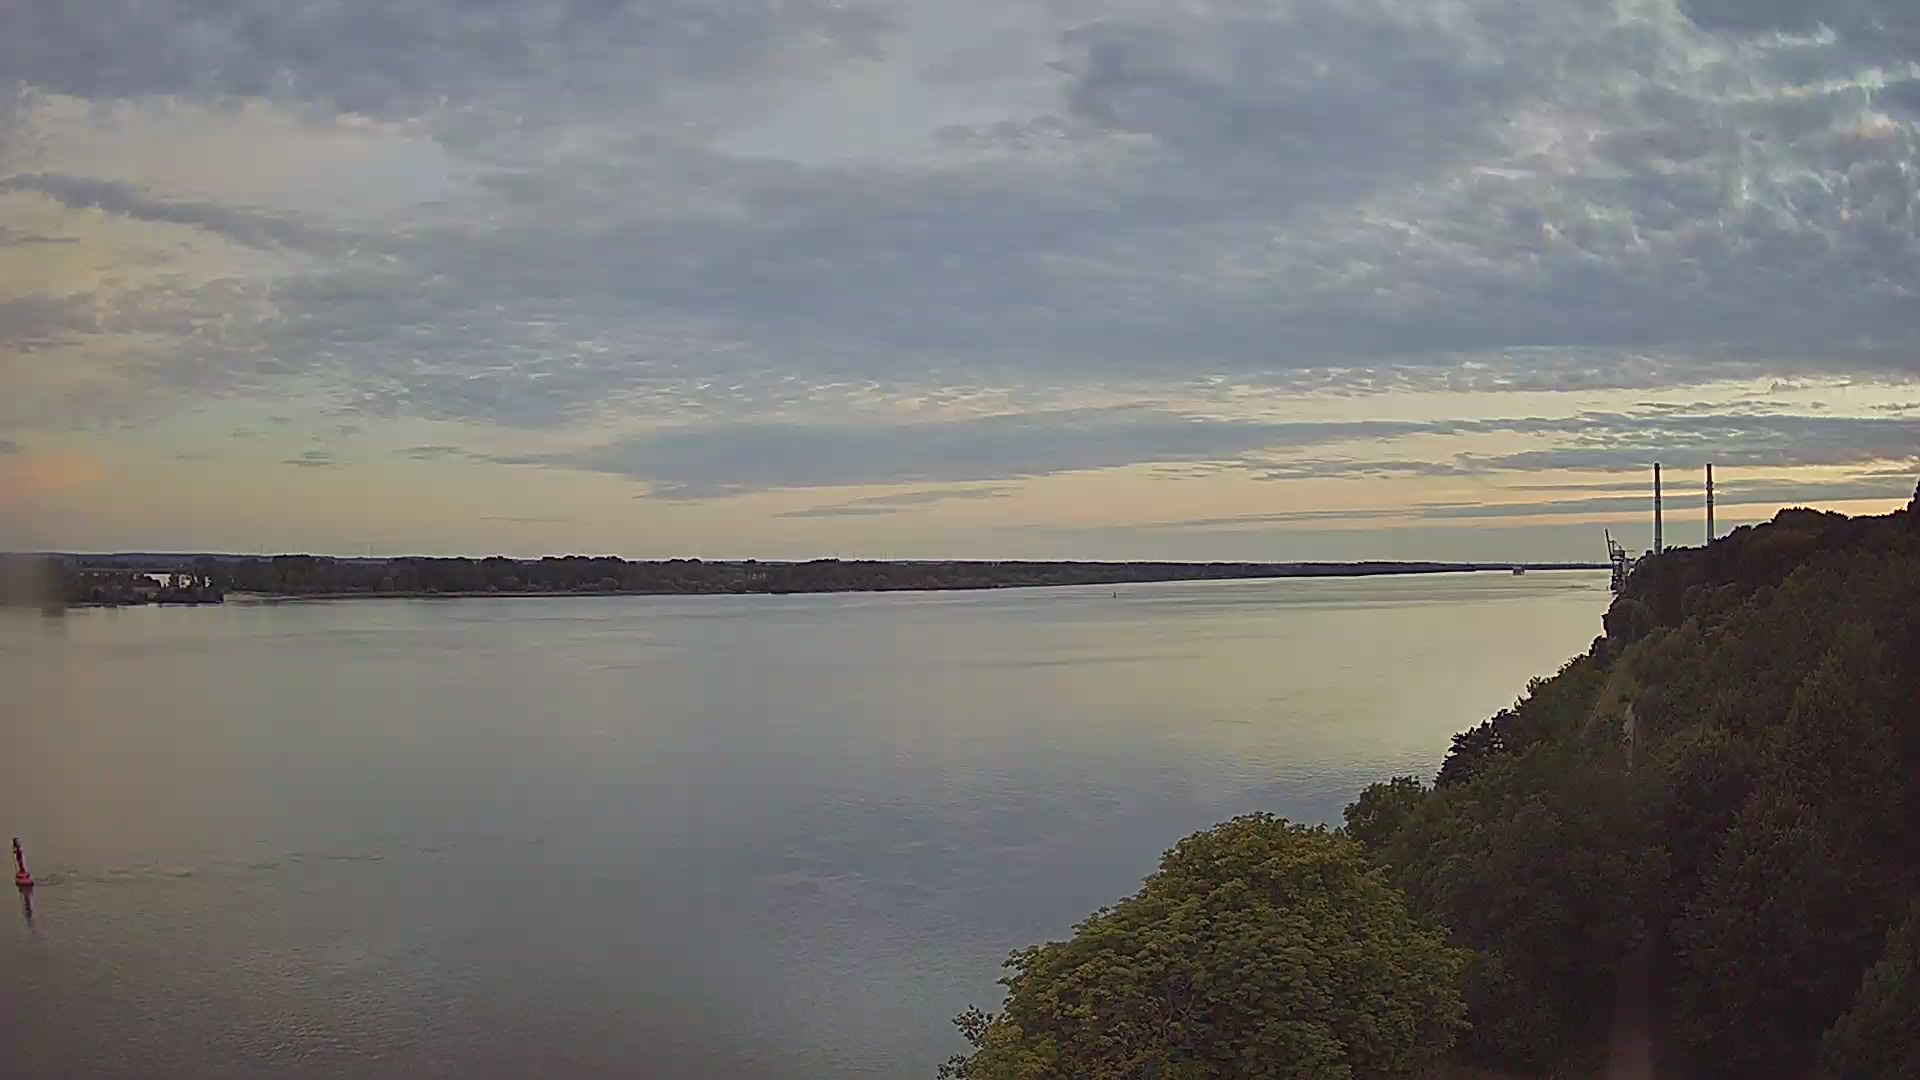sea: (1513, 564, 1524, 575)
